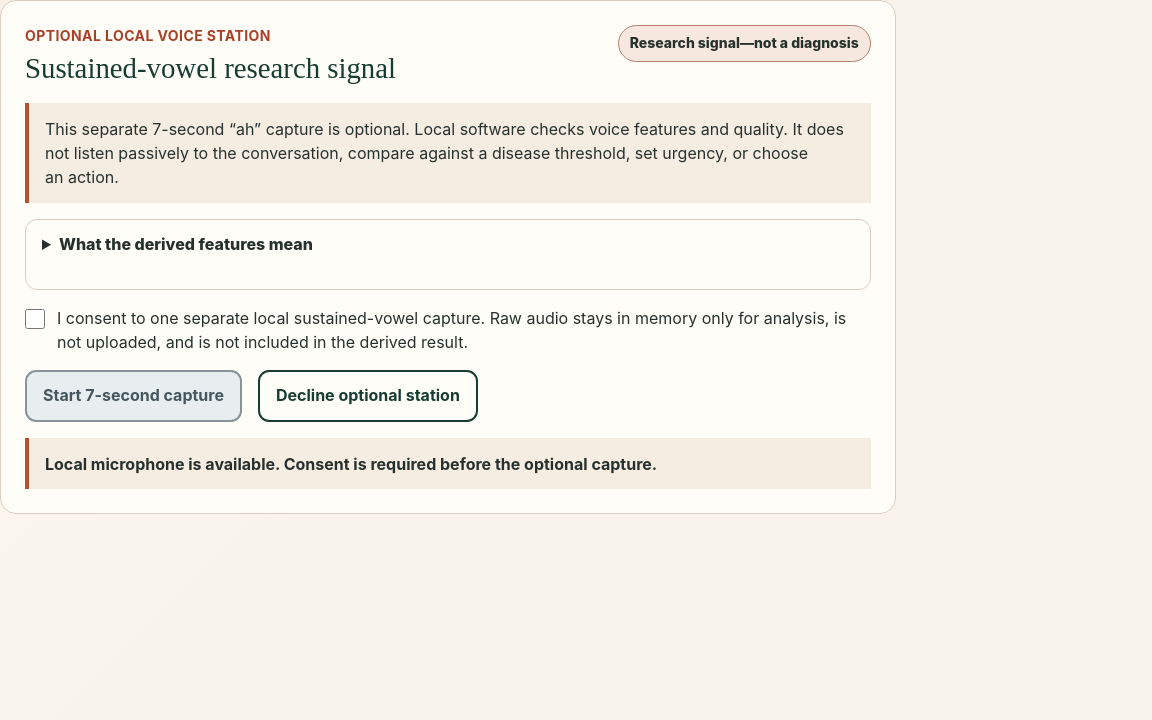
Test case: voice biomarker station › shows labelled progress and a keyboard-operable cancel path while capture is pending
This screenshot has width=1152, height=720.
Click the checkbox labelled "I consent to one separate local sustained-vowel capture": x=35, y=318 x1=25 y1=308 x2=45 y2=328
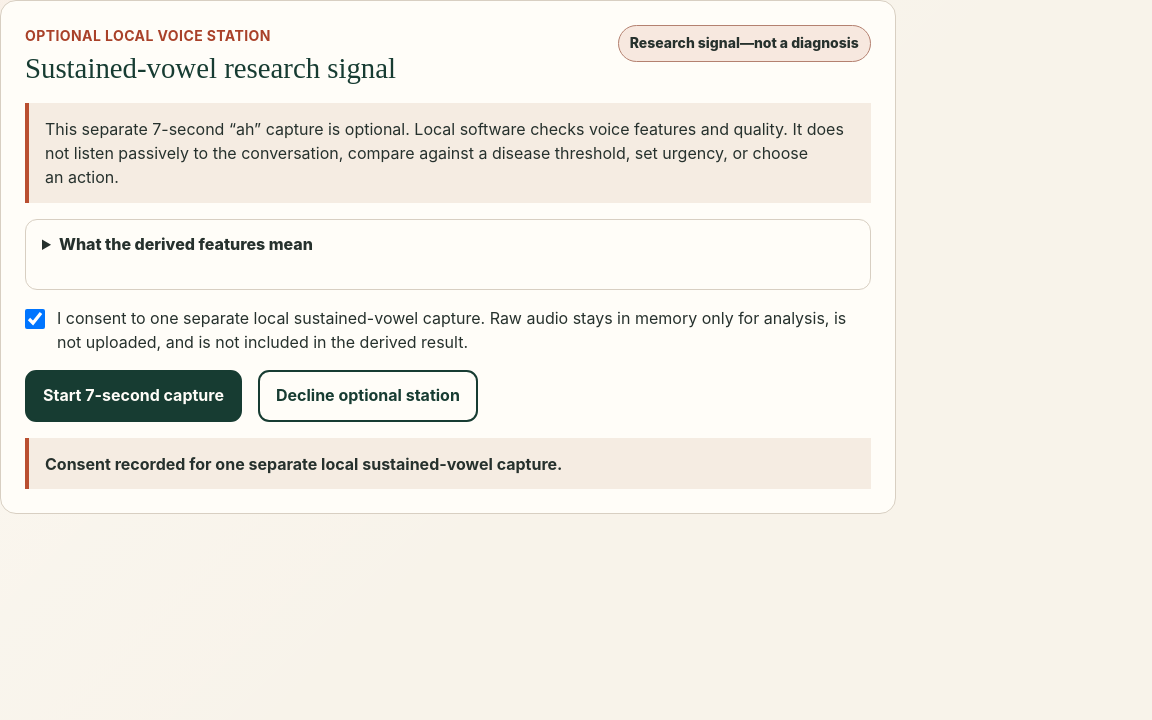
Click the button "Start 7-second capture": x=134, y=396 x1=25 y1=370 x2=242 y2=422
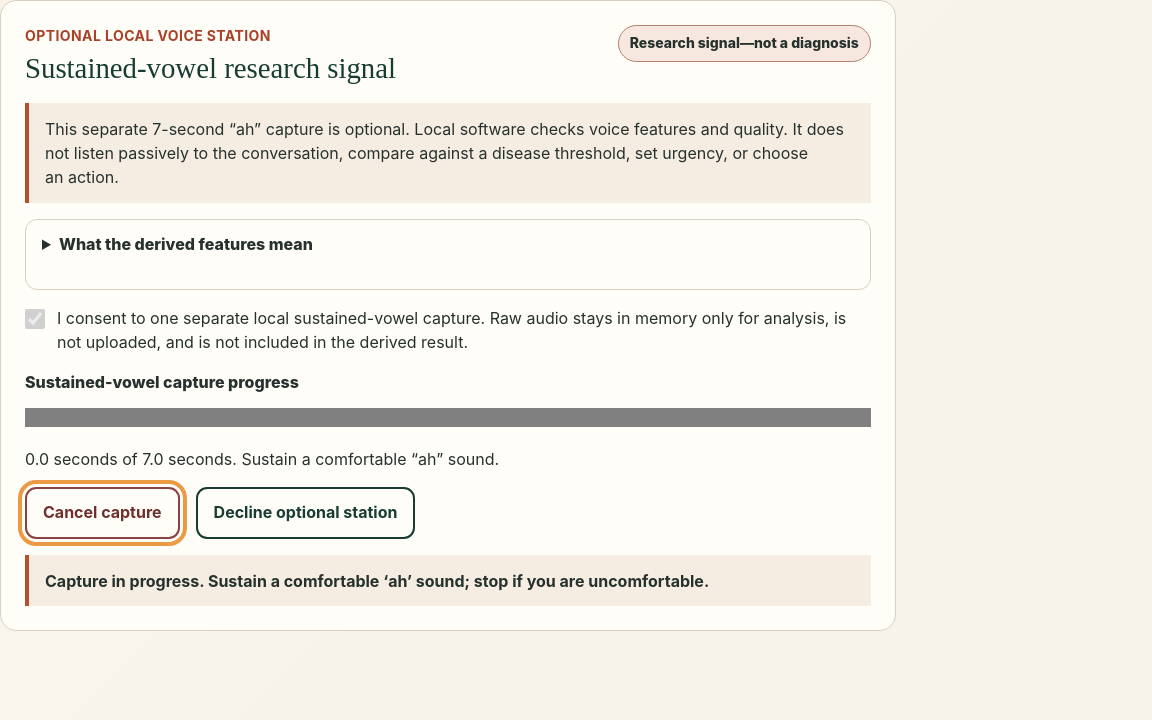
Expected: the progress indicator named "Sustained-vowel capture progress" is shown, x1=25 y1=408 x2=871 y2=427
Press Enter in the button "Cancel capture", box x1=25 y1=487 x2=180 y2=539
Click the button "Cancel capture": x=102, y=513 x1=25 y1=487 x2=180 y2=539
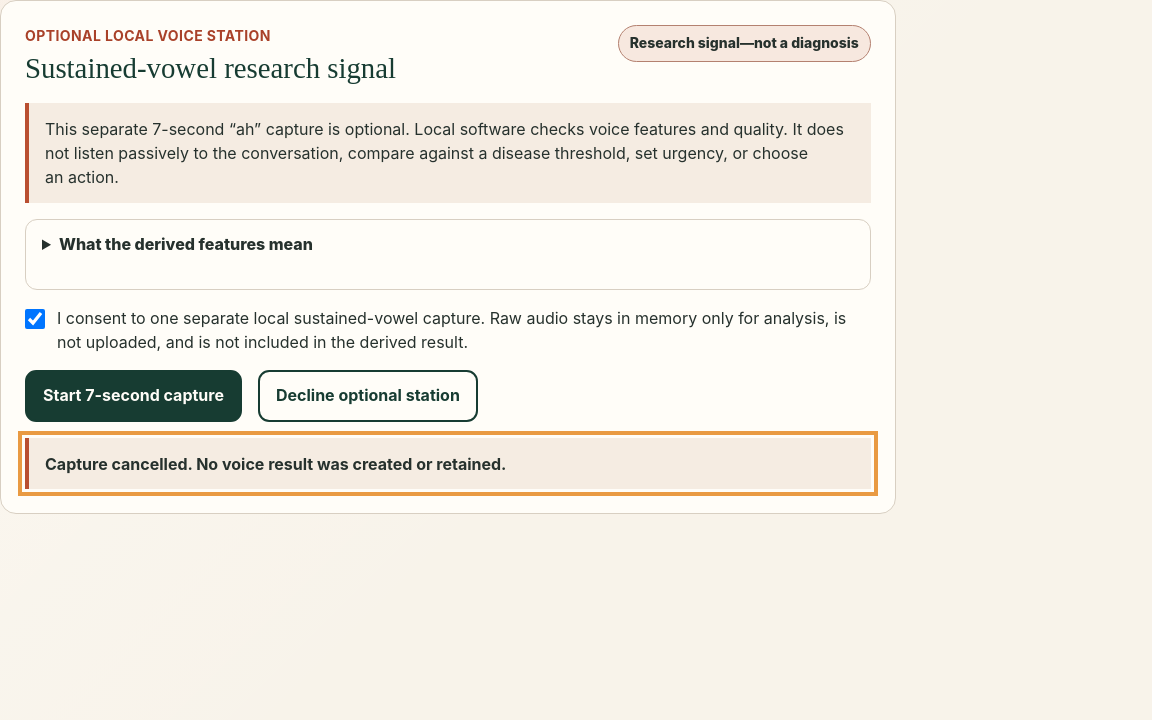
Expected: the message shows "Capture cancelled", x1=45 y1=454 x2=506 y2=474
